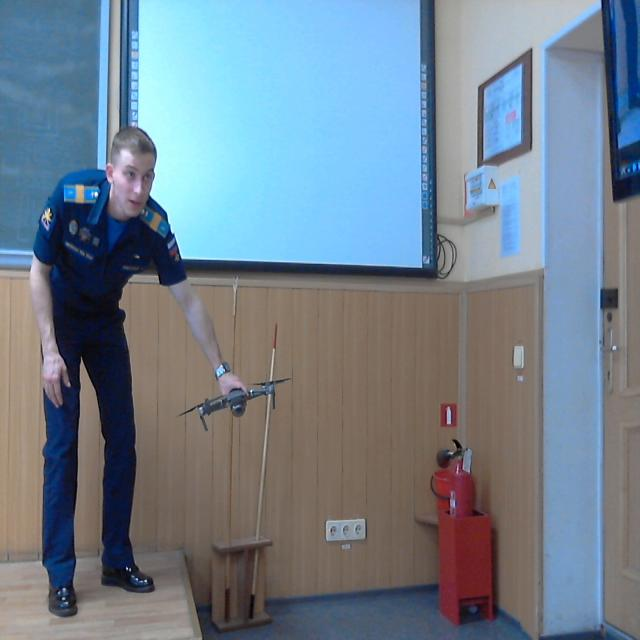drone: (180, 369, 302, 432)
